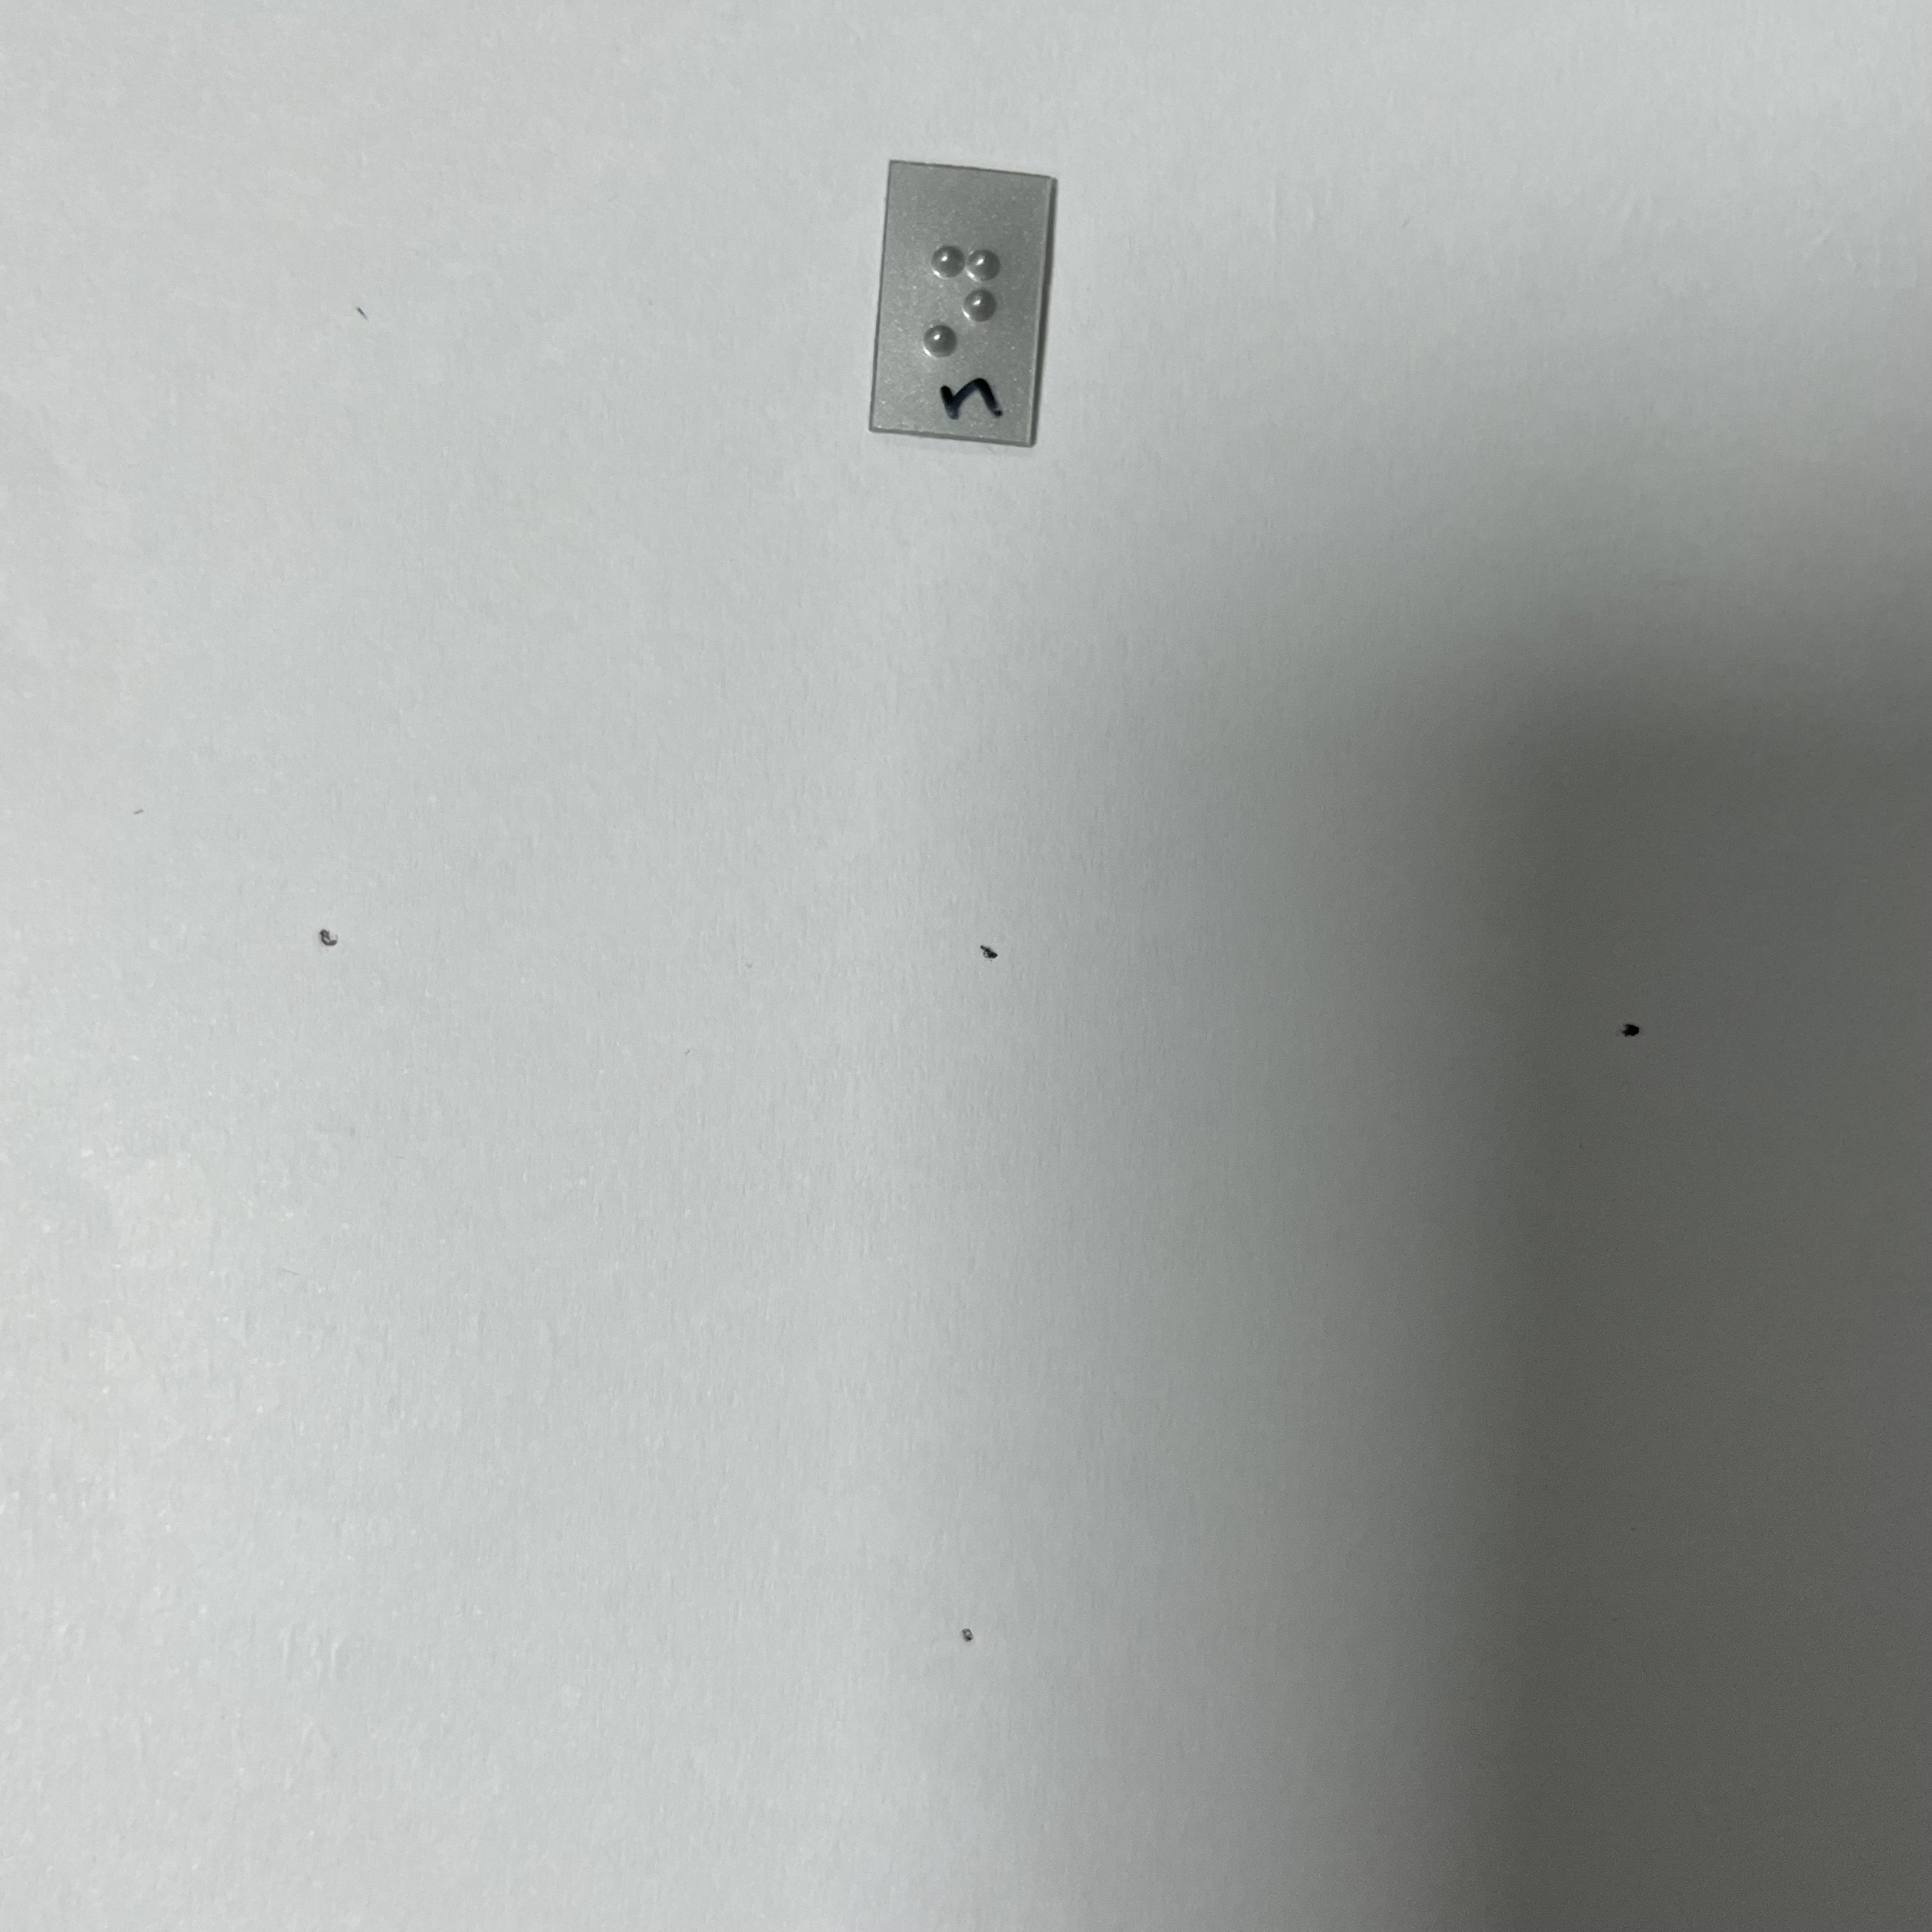n: (914, 225, 1013, 372)
